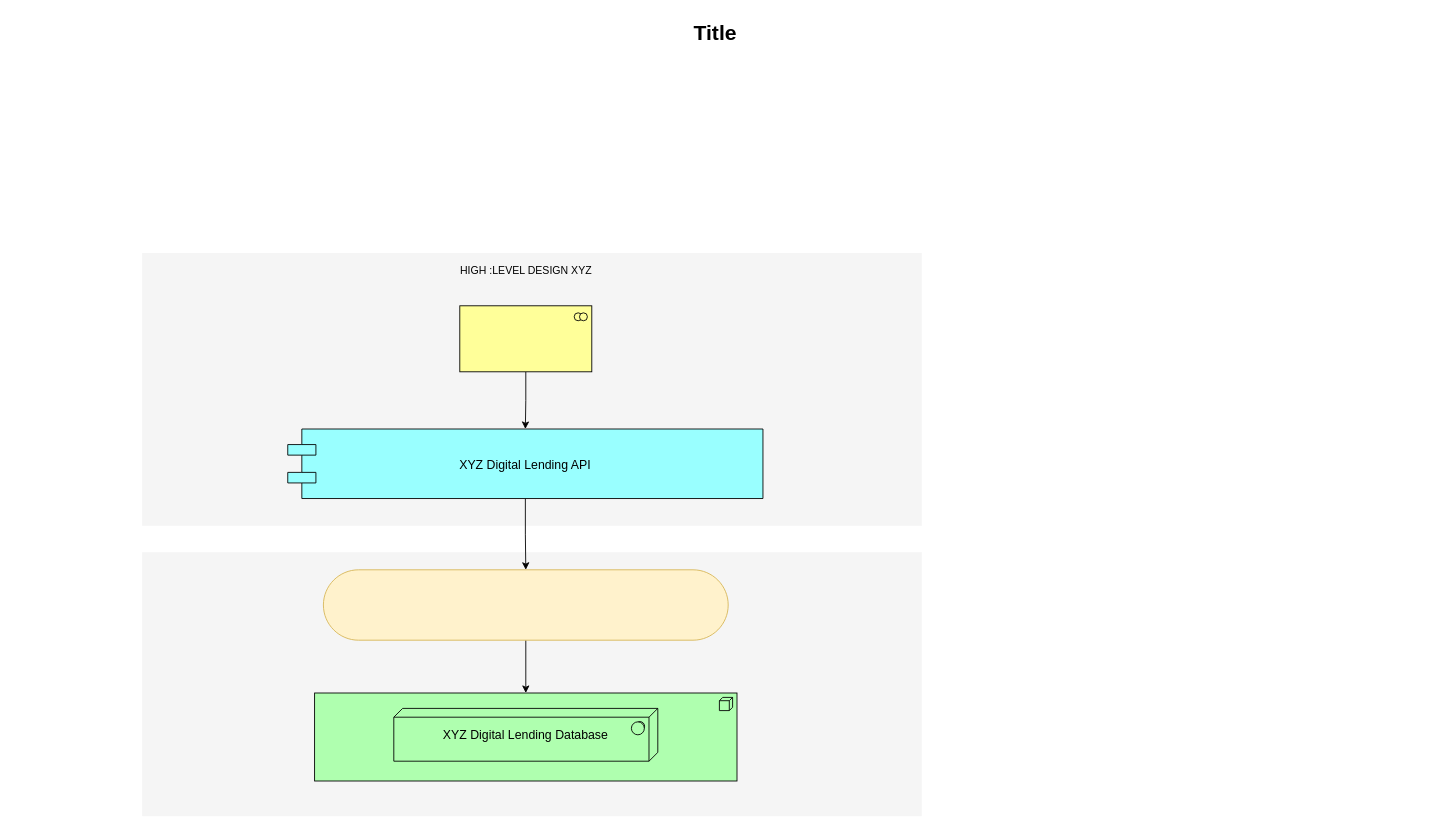
This 1429x831 diagram has some shape labels left out. Here are the shapes that lost their labels. From the top down, the centre of each, then its label:
At point 525,338: "XYZ Digital Lending Mobile Apps".
At point 525,604: "XYZ Digital Lending Application Server".
